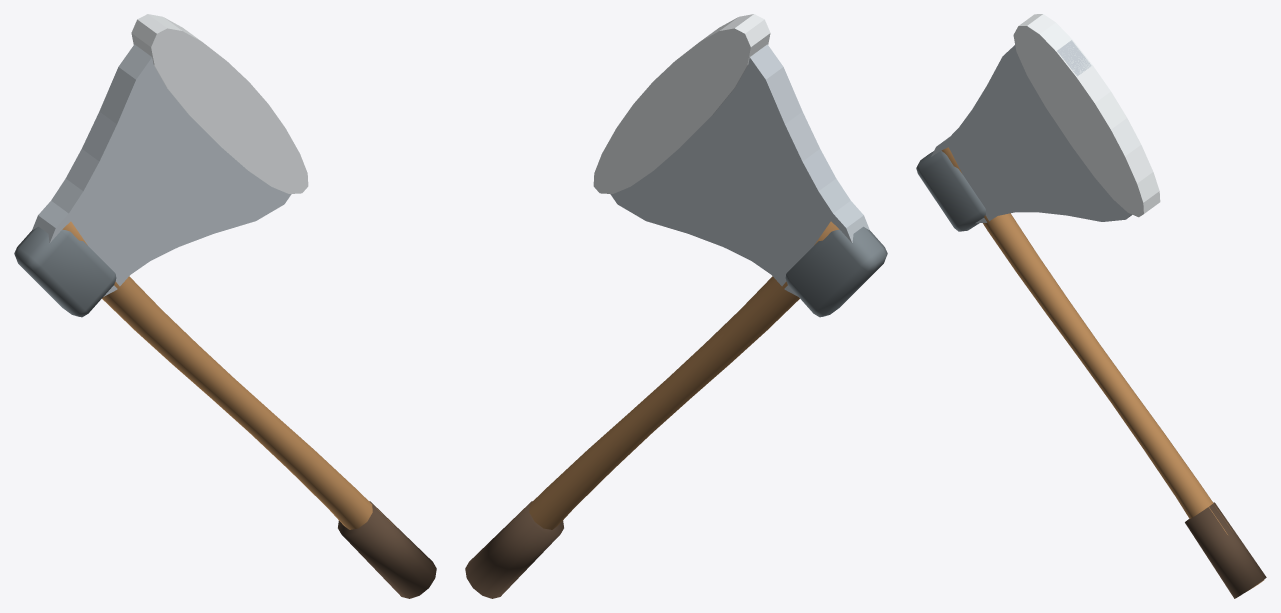
File: tool-axe.glb
3 views of the same model, side by side, from view 1: azimuth 30°, elevation 25°; view 2: azimuth 150°, elevation 25°; view 3: azimuth 330°, elevation 25° (orthographic). The views are drawn at different scales.
Parts seen in each view (by area): view 1: tool; view 2: tool; view 3: tool.
Part boxes in pixels (bbox=[...]): tool: bbox=[14, 14, 436, 598]; tool: bbox=[465, 14, 887, 598]; tool: bbox=[916, 14, 1266, 598].
Size of the model in its own units: 0.6045 by 0.8902 by 0.06.
